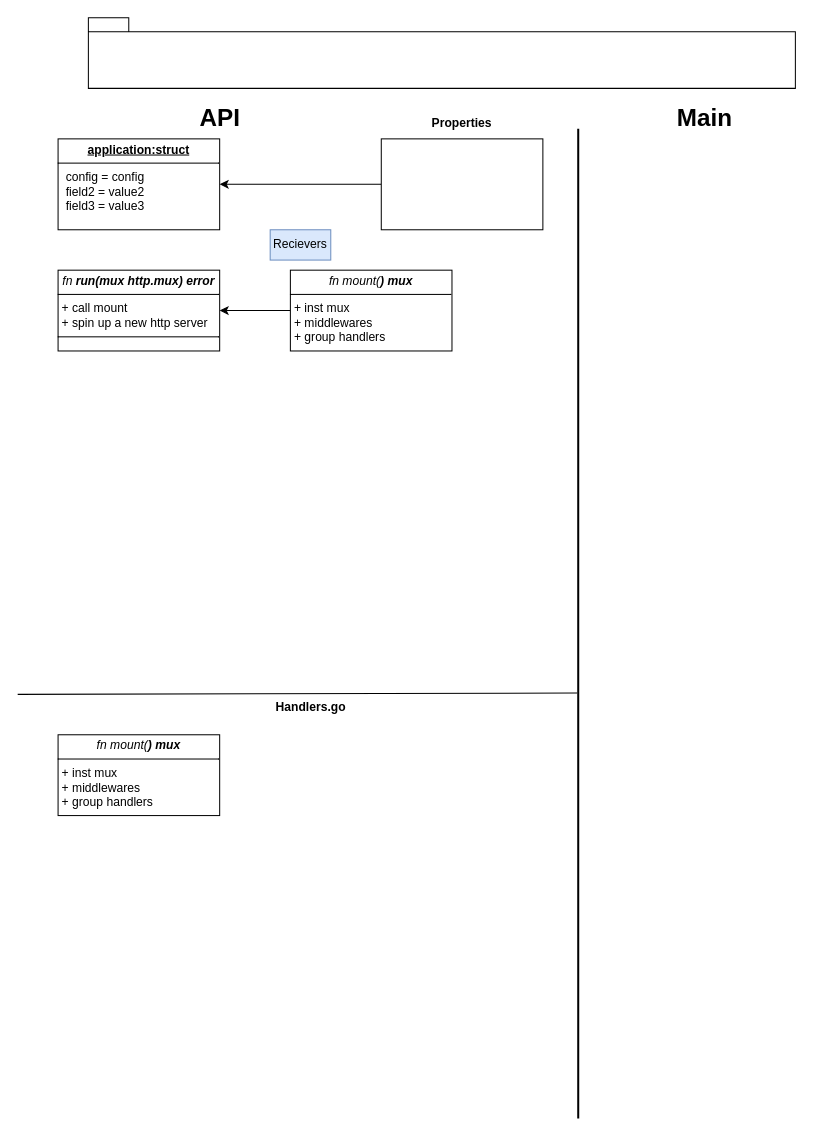
Image size: 813x1137. Some labels were removed from this diagram. The shapes that lost their labels are listed below. From the top down, each one's centre as x and y in pixels, then its label:
point (441, 52): package main
point (461, 184): Config:Struct port = "string" eg ":8080" field2 = value2 field3 = value3
